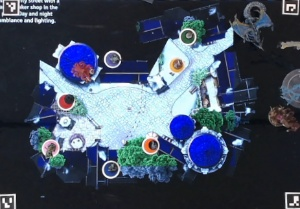blue: (100, 157, 120, 179)
green: (179, 26, 196, 47)
orange: (138, 136, 164, 156)
pink: (39, 137, 61, 161)
red: (55, 92, 75, 112)
violet: (101, 48, 122, 69)
yellow: (167, 56, 188, 74)
